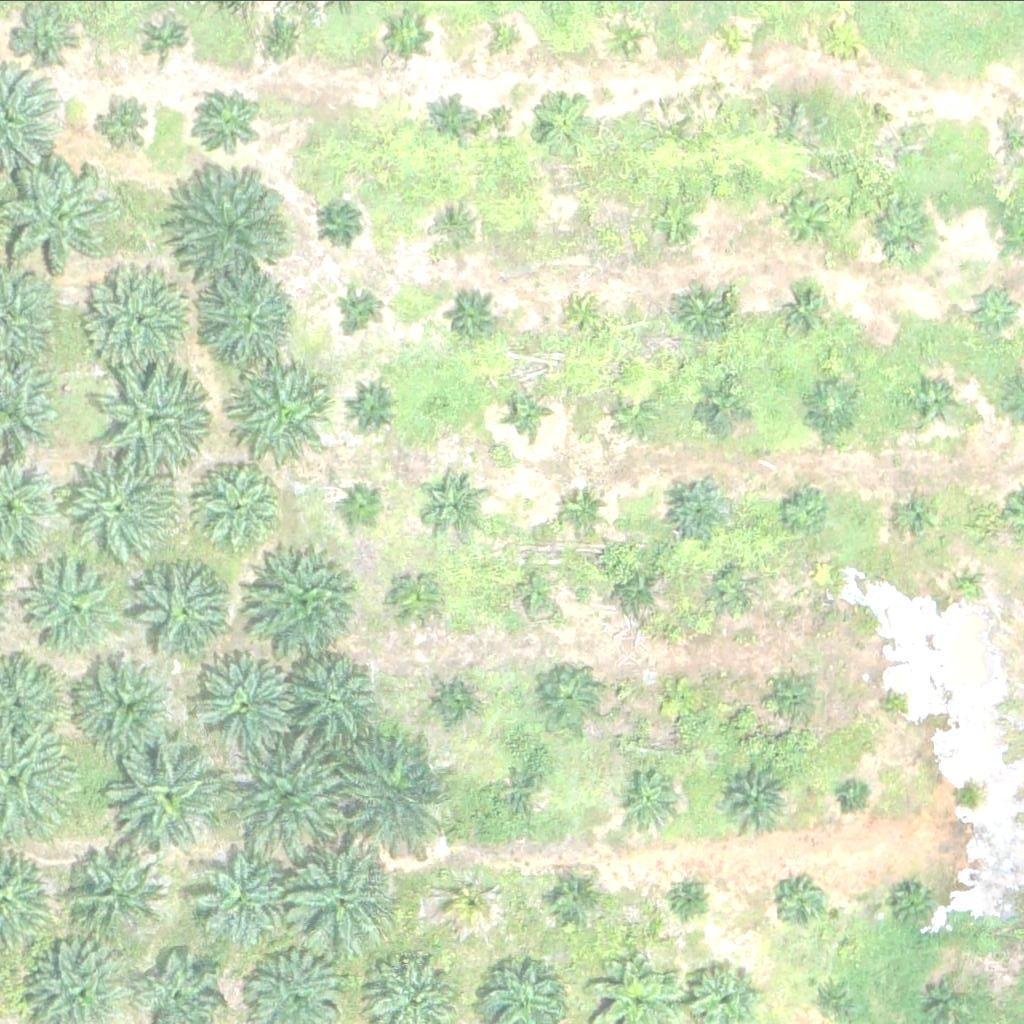Kelapa_Sawit: (90, 352, 216, 477), (56, 444, 182, 569), (221, 734, 347, 859), (332, 726, 458, 851), (171, 156, 296, 281), (252, 547, 366, 660), (84, 267, 197, 380), (290, 838, 403, 951), (182, 647, 296, 759), (102, 737, 216, 849), (234, 359, 347, 471), (195, 270, 296, 370), (189, 456, 290, 556), (25, 555, 126, 655), (191, 847, 292, 947), (134, 563, 234, 663), (73, 650, 173, 750), (61, 841, 161, 941), (293, 653, 381, 741), (718, 762, 794, 837), (187, 82, 262, 157), (432, 476, 495, 539), (386, 570, 449, 633), (870, 203, 933, 266), (668, 474, 731, 537), (14, 7, 77, 70), (503, 559, 566, 622), (541, 667, 604, 729), (620, 767, 683, 829), (672, 280, 735, 342), (773, 186, 836, 248), (533, 90, 596, 152), (490, 763, 553, 825), (807, 380, 858, 430), (689, 382, 740, 432), (611, 562, 662, 612), (104, 93, 155, 143), (554, 486, 605, 536), (705, 561, 756, 611), (432, 682, 483, 732), (651, 673, 702, 723), (778, 485, 829, 535), (778, 287, 829, 337), (968, 283, 1019, 333), (910, 375, 961, 425), (549, 872, 599, 922), (347, 382, 397, 432), (445, 288, 495, 338), (424, 92, 474, 142), (649, 192, 699, 242), (609, 389, 659, 439), (342, 481, 392, 531), (772, 667, 822, 717), (895, 490, 945, 540), (778, 878, 828, 928), (892, 875, 942, 925), (810, 971, 860, 1021), (449, 871, 499, 921), (389, 10, 427, 48), (317, 203, 355, 241), (490, 17, 528, 55), (609, 19, 647, 57), (716, 17, 754, 55), (816, 21, 854, 59), (563, 295, 601, 333), (508, 392, 546, 430), (343, 287, 381, 324), (441, 210, 479, 247), (570, 198, 608, 235), (868, 115, 906, 152), (151, 20, 188, 57), (261, 16, 298, 53), (841, 783, 867, 808), (952, 578, 977, 603), (879, 690, 904, 715), (677, 882, 702, 907)
